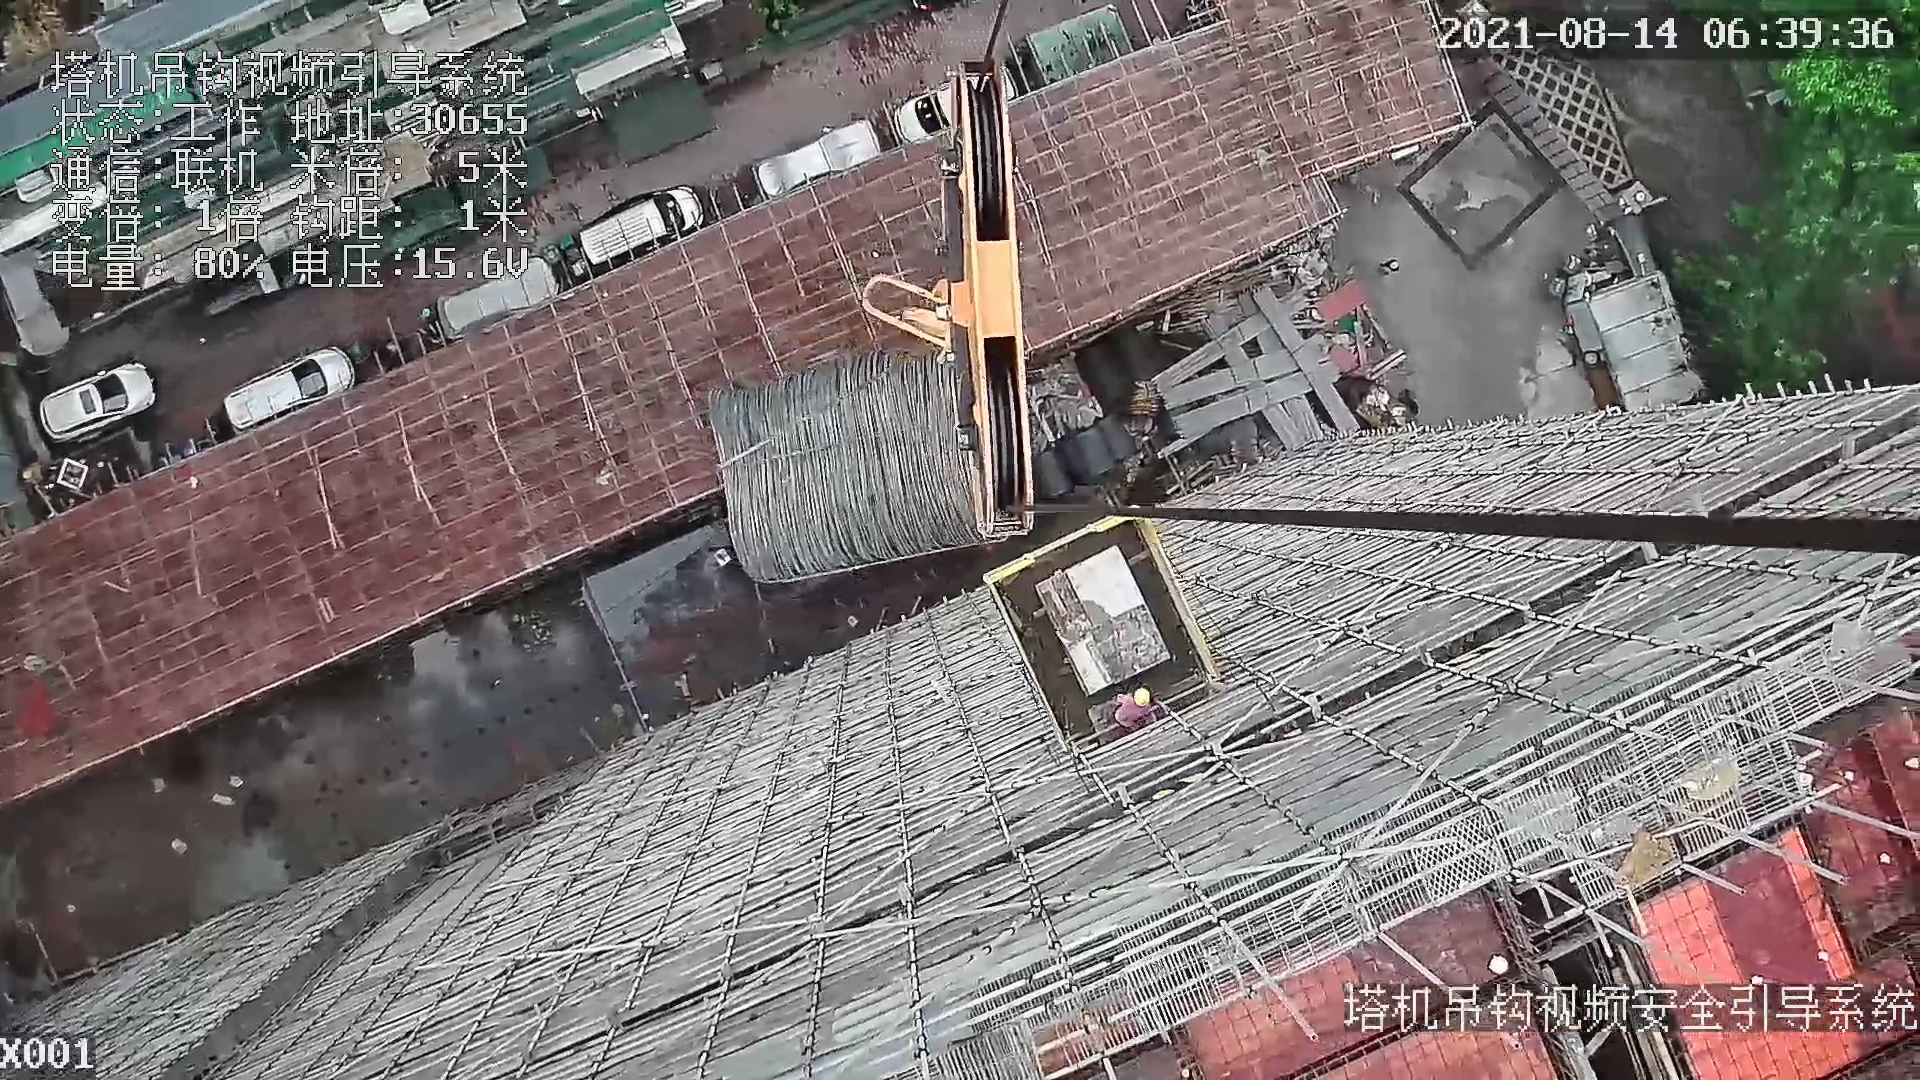helmet: (1132, 684, 1153, 713)
hook: (846, 56, 1047, 536)
person: (1114, 689, 1162, 732)
